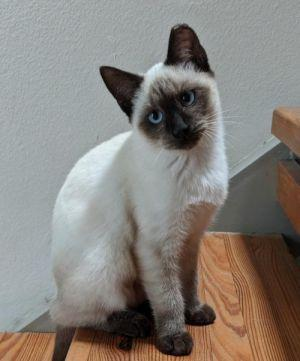siamese: (96, 17, 236, 163)
